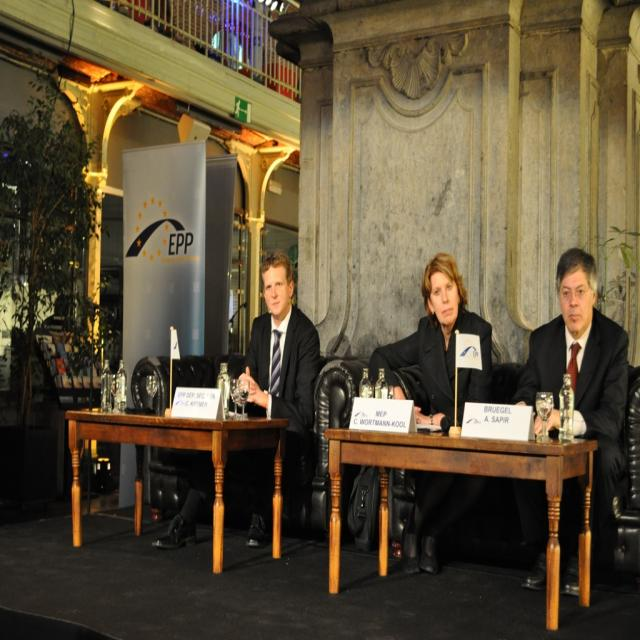chair: (612, 367, 640, 581)
desk: (325, 428, 597, 625), (64, 397, 284, 574)
person: (511, 246, 631, 619), (368, 253, 504, 576), (234, 250, 322, 559)
